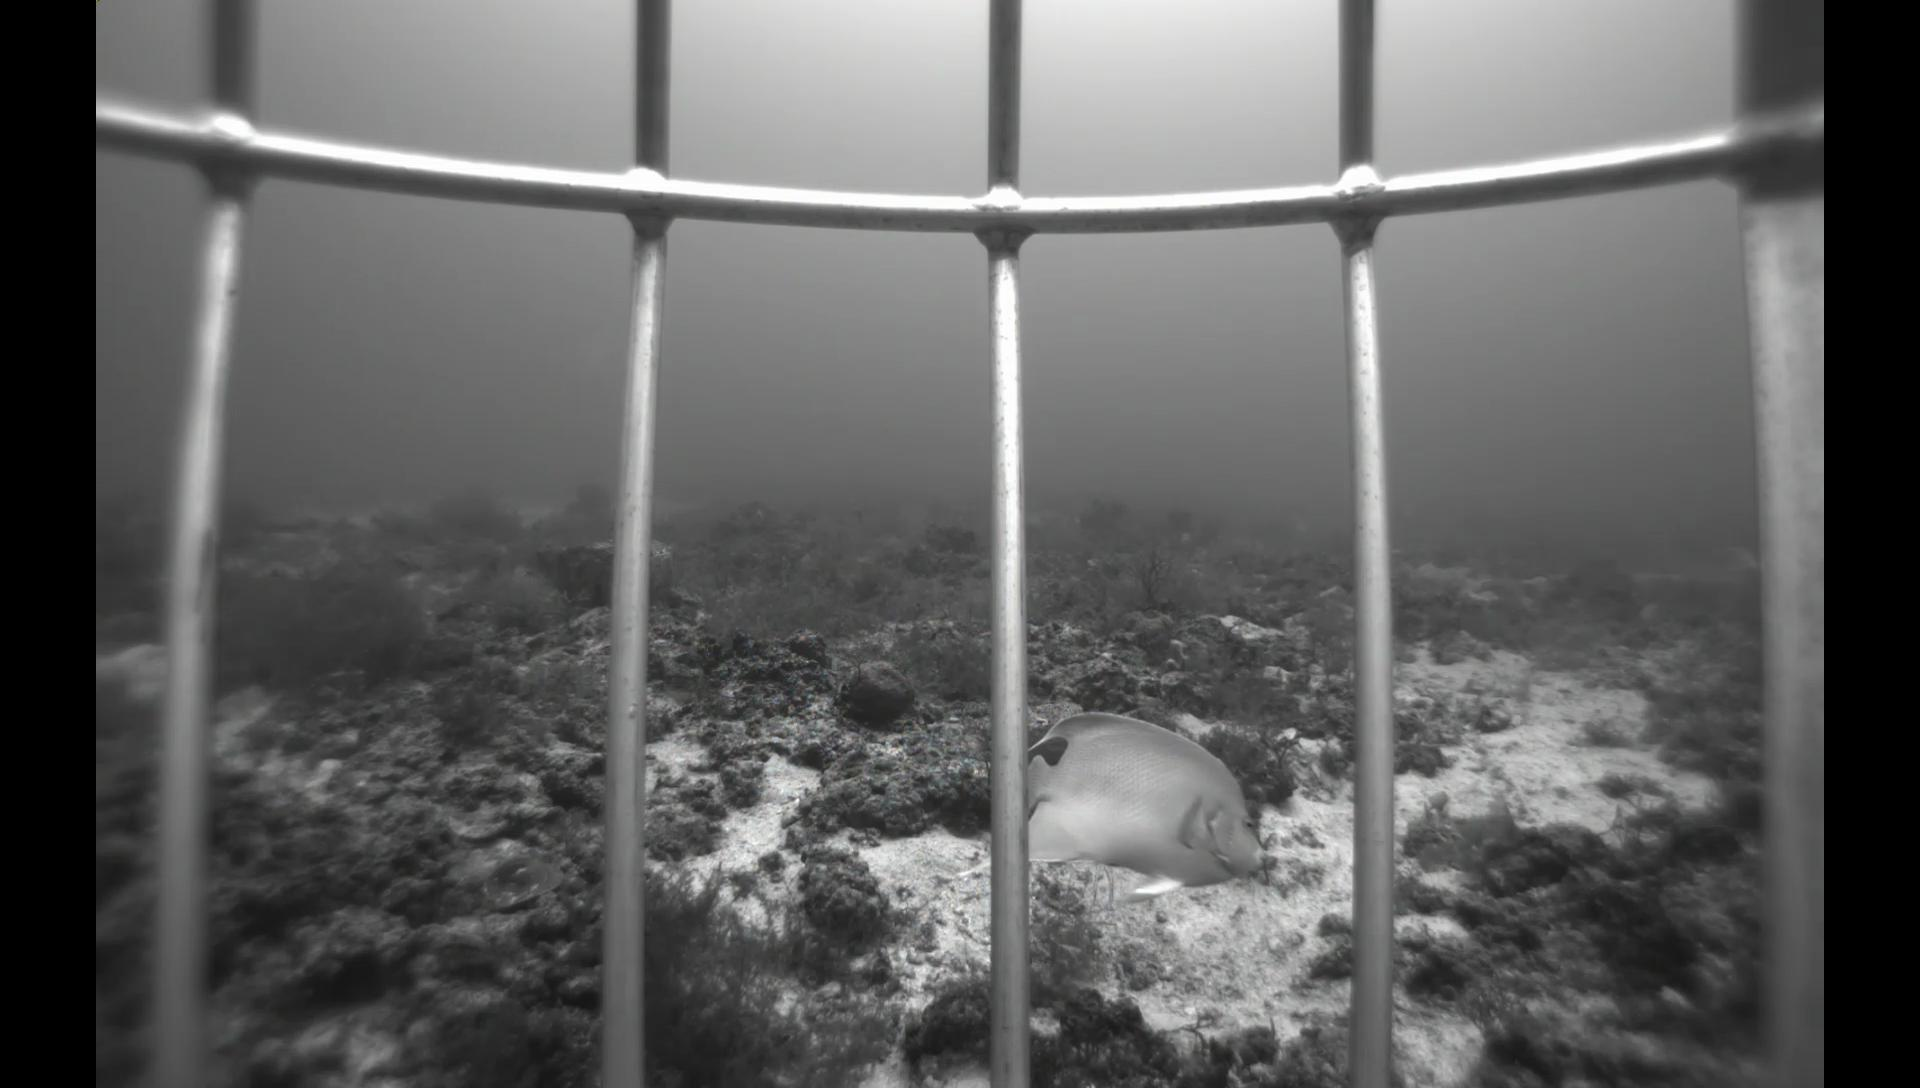HOLACANTHUSBERMUDENSIS-170290102: (1025, 702, 1279, 913), (1716, 537, 1760, 583)
SERRANUSANNULARIS-170024201: (415, 935, 524, 976)
